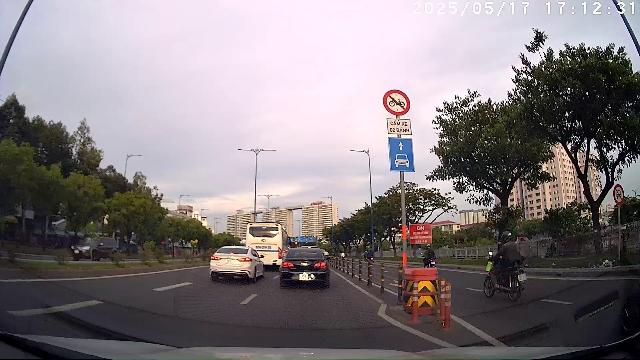103a-cam-oto: (614, 184, 624, 204)
